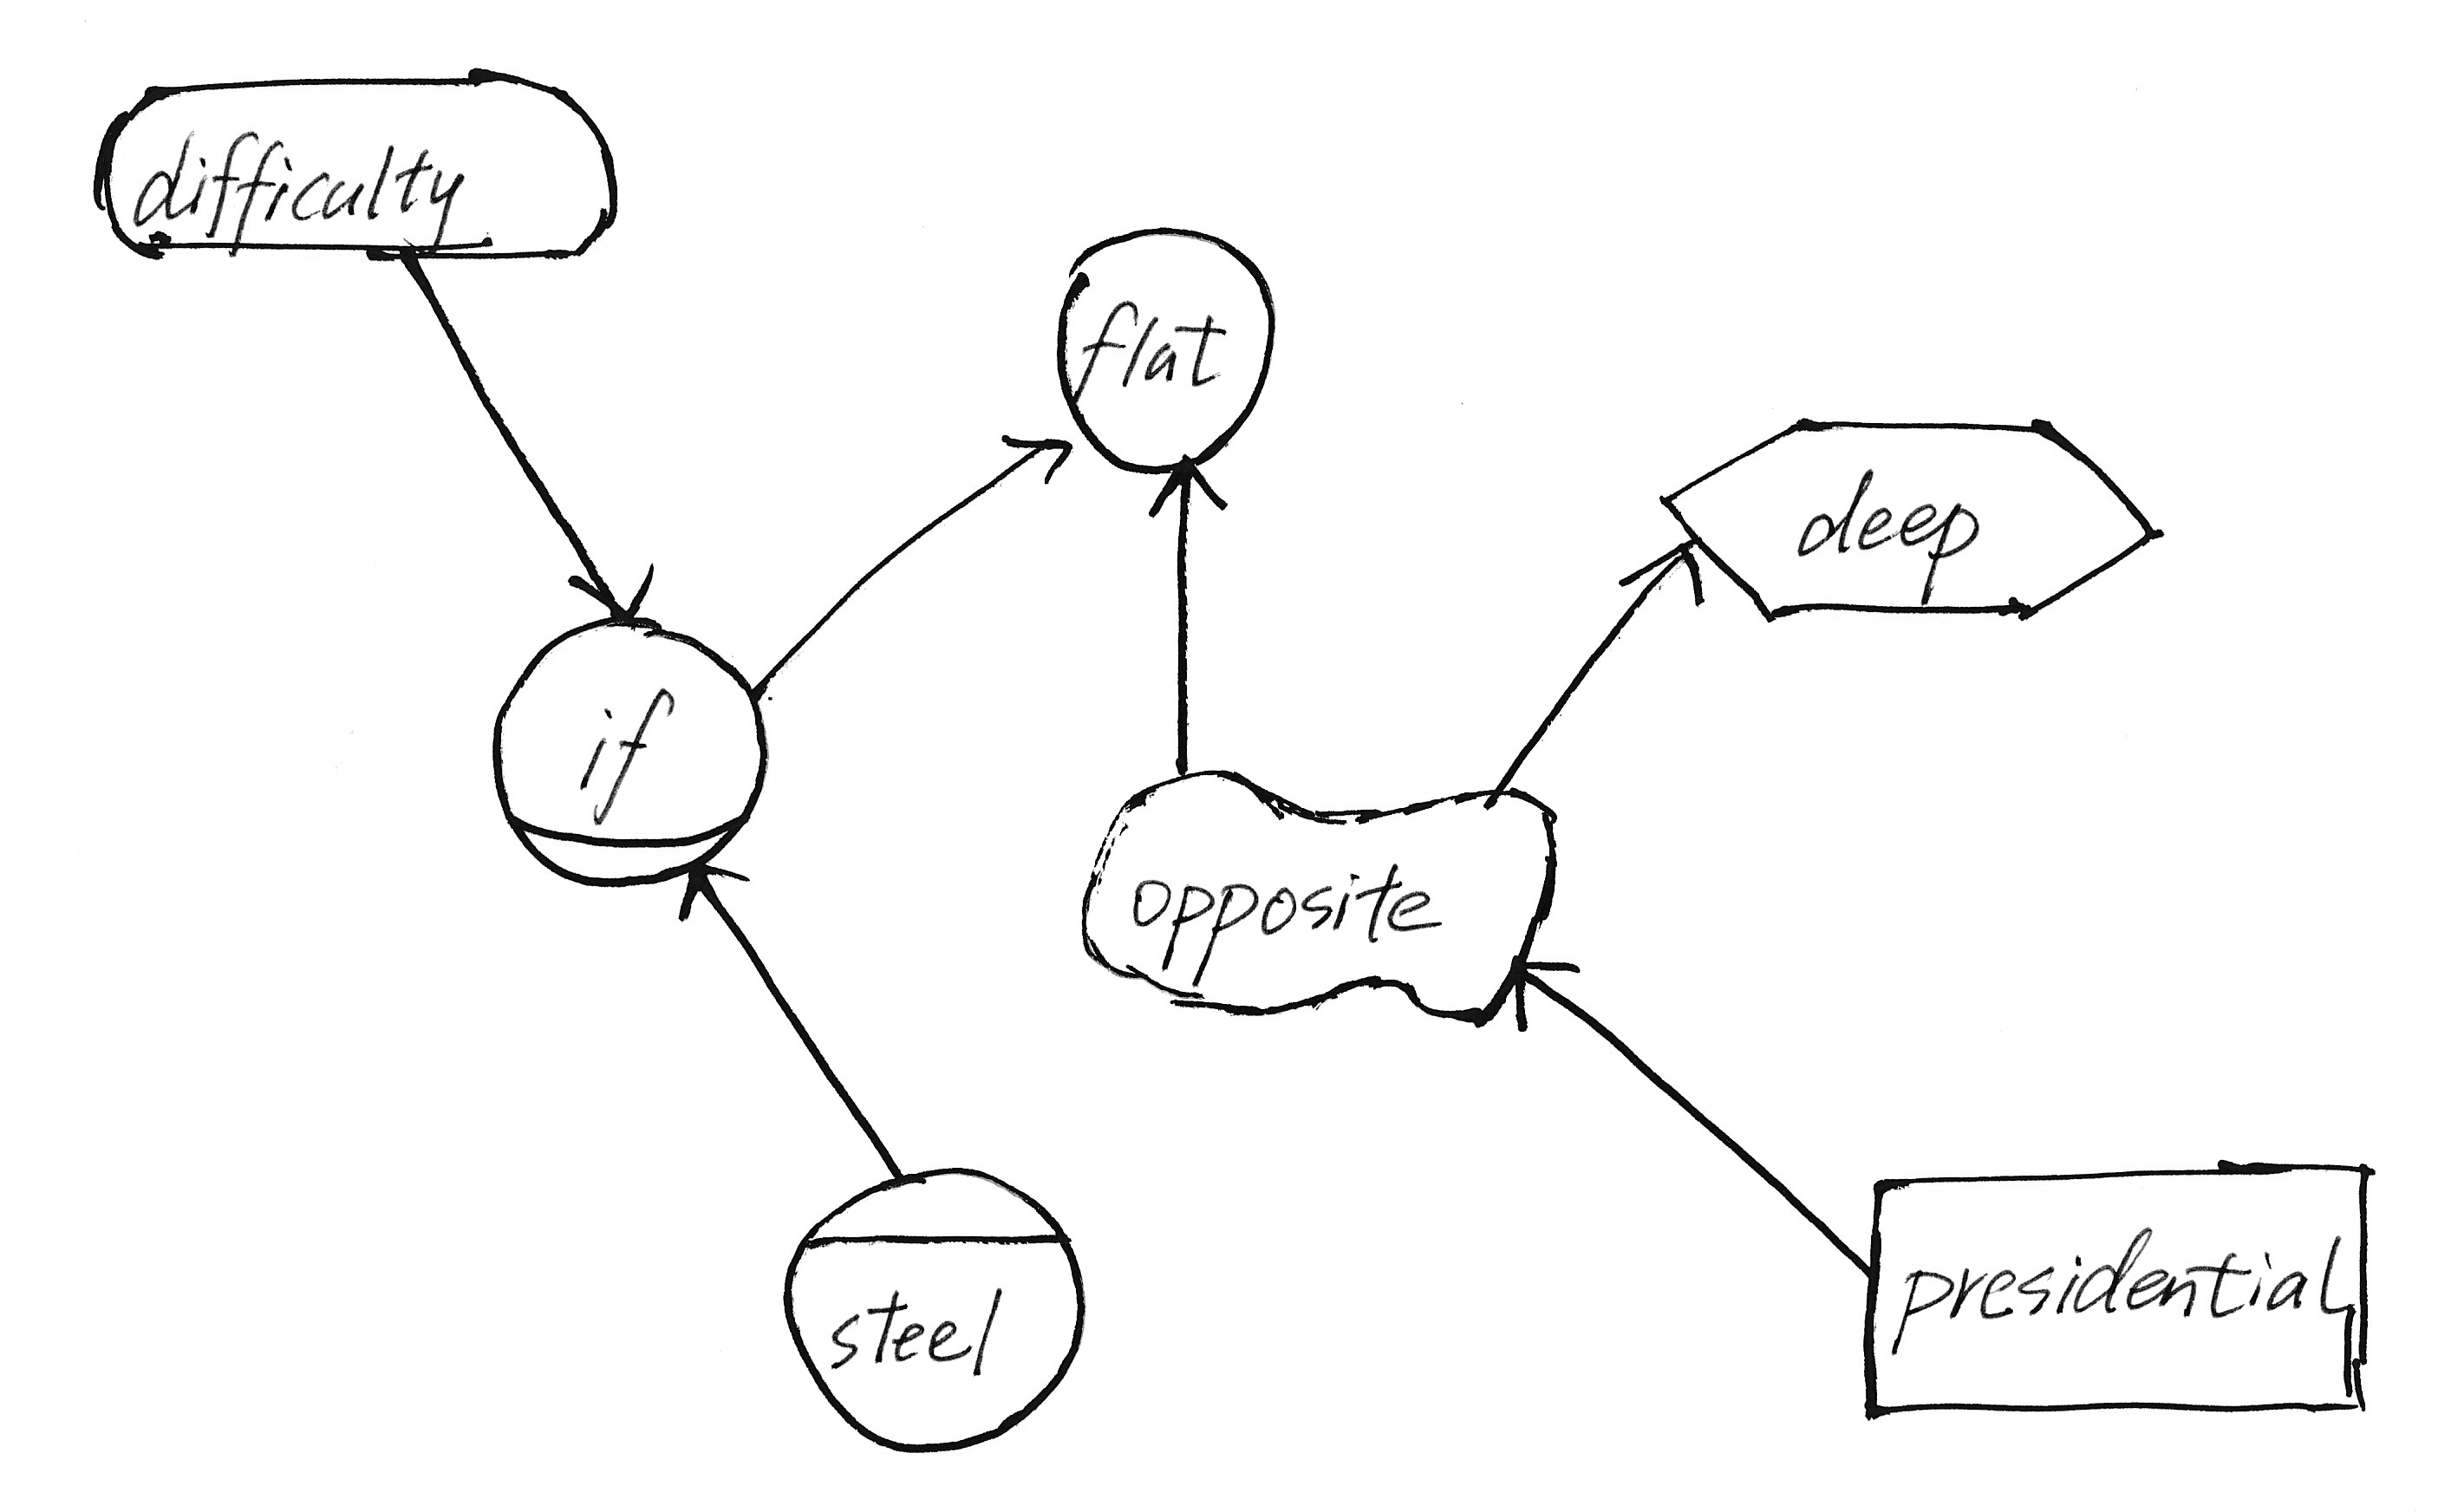actor: (1043, 213, 1289, 490)
agent: (763, 1150, 1110, 1470)
arrow: (1486, 936, 1588, 1038), (1619, 528, 1728, 618), (662, 850, 763, 945), (551, 562, 674, 637), (1136, 450, 1234, 530), (991, 413, 1082, 490)
goal: (79, 52, 636, 280)
quality: (1059, 758, 1588, 1048)
resource: (1838, 1144, 2393, 1440)
role: (466, 598, 793, 906)
task: (1644, 392, 2174, 641)
